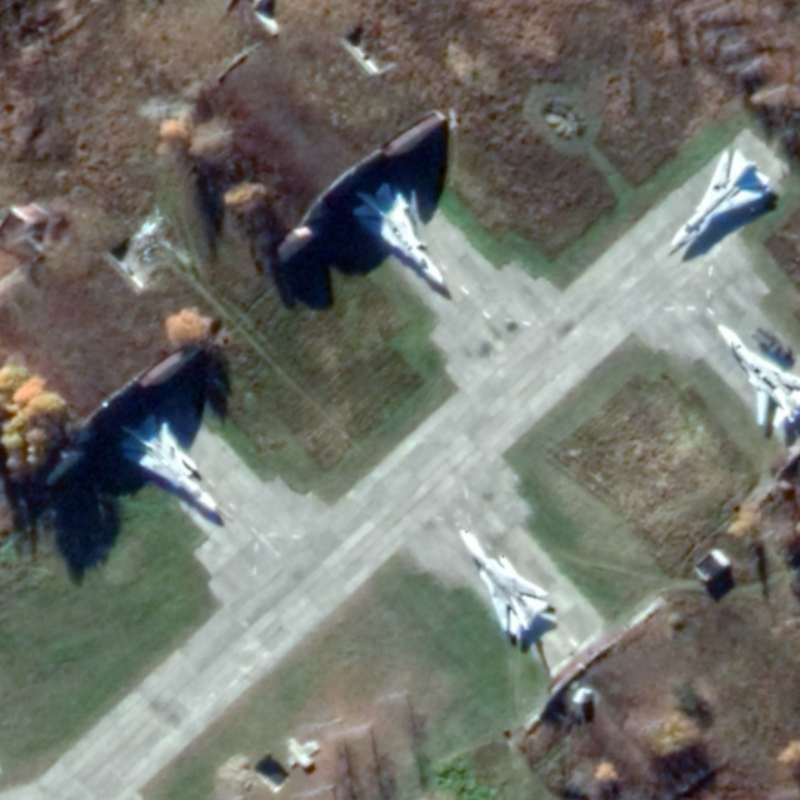A20: (666, 147, 775, 251), (118, 411, 220, 515), (457, 527, 551, 638), (350, 179, 446, 287), (714, 321, 800, 430)
